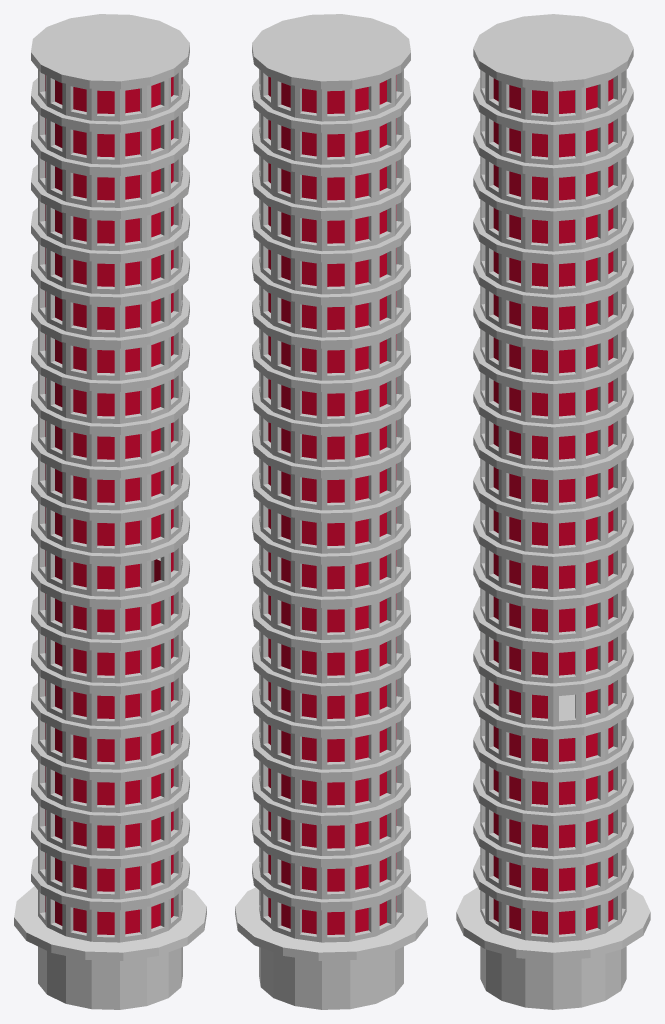
Rendered from SkyScrapersRoundWithHoles 1.dae.
3 views of the same model, side by side, from view 1: azimuth 30°, elevation 25°; view 2: azimuth 150°, elevation 25°; view 3: azimuth 270°, elevation 25° (orthographic).
Parts seen in each view (by area): view 1: Kreis.003, Kreis; view 2: Kreis.003, Kreis; view 3: Kreis.003, Kreis.
Boxes of the visible parts, x1,y1,x2,y2 form: Kreis.003: (31,14,189,942); Kreis: (14,886,206,1009); Kreis.003: (252,14,410,942); Kreis: (235,886,427,1009); Kreis.003: (473,14,633,942); Kreis: (456,887,650,1009).
Size of the model in its own units: 2.65 by 2.65 by 14.04.
